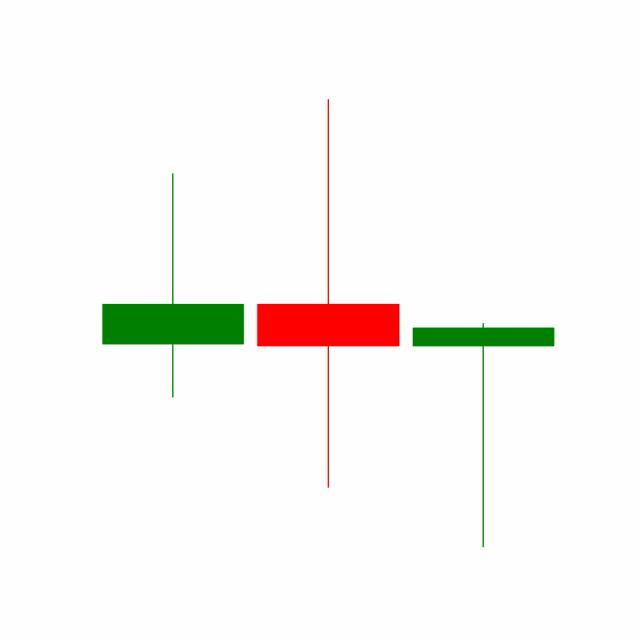Dragonfly Doji: (406, 321, 562, 551)
